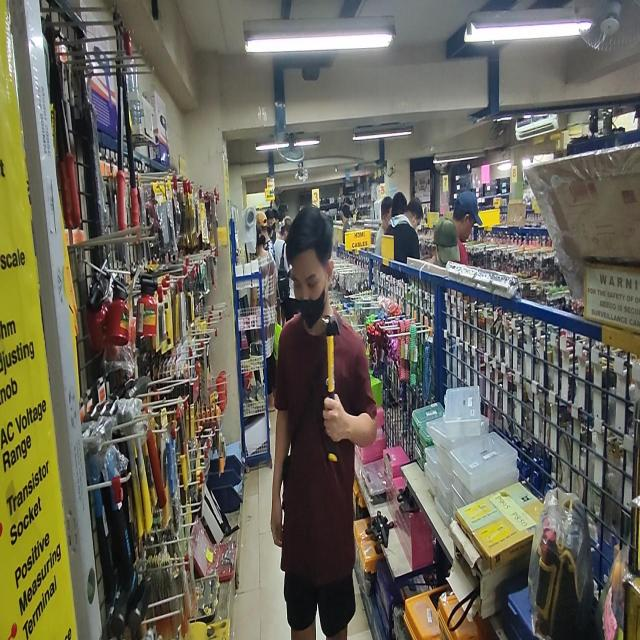hammer: (322, 314, 341, 462)
